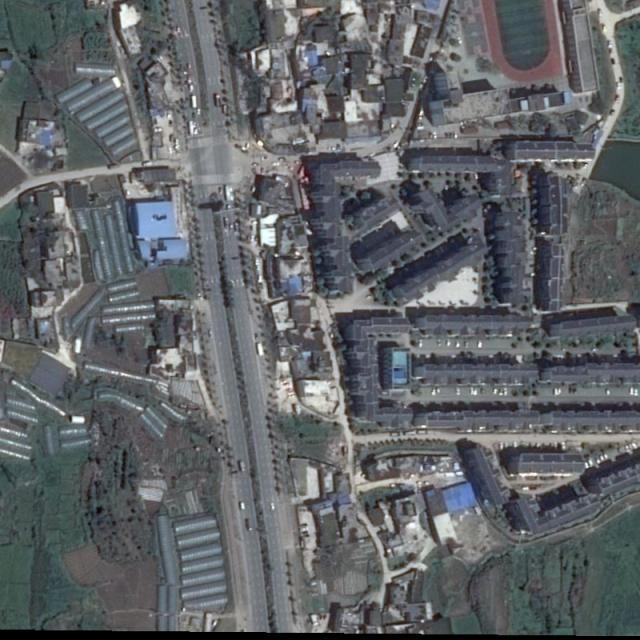vehicle: (187, 82, 197, 95), (256, 341, 264, 357), (214, 93, 223, 107), (238, 458, 246, 472), (190, 95, 198, 109), (246, 518, 254, 531), (586, 455, 594, 468), (238, 500, 246, 512), (498, 440, 505, 453), (625, 442, 632, 453), (430, 386, 437, 397), (176, 22, 182, 34), (502, 386, 509, 396), (269, 501, 275, 512), (561, 442, 566, 454), (417, 338, 423, 348), (455, 386, 461, 396), (463, 339, 469, 349), (553, 384, 558, 396), (446, 338, 452, 347), (454, 339, 460, 348), (605, 387, 611, 396), (477, 338, 482, 348), (437, 338, 442, 347), (630, 386, 635, 395), (470, 386, 474, 396)
